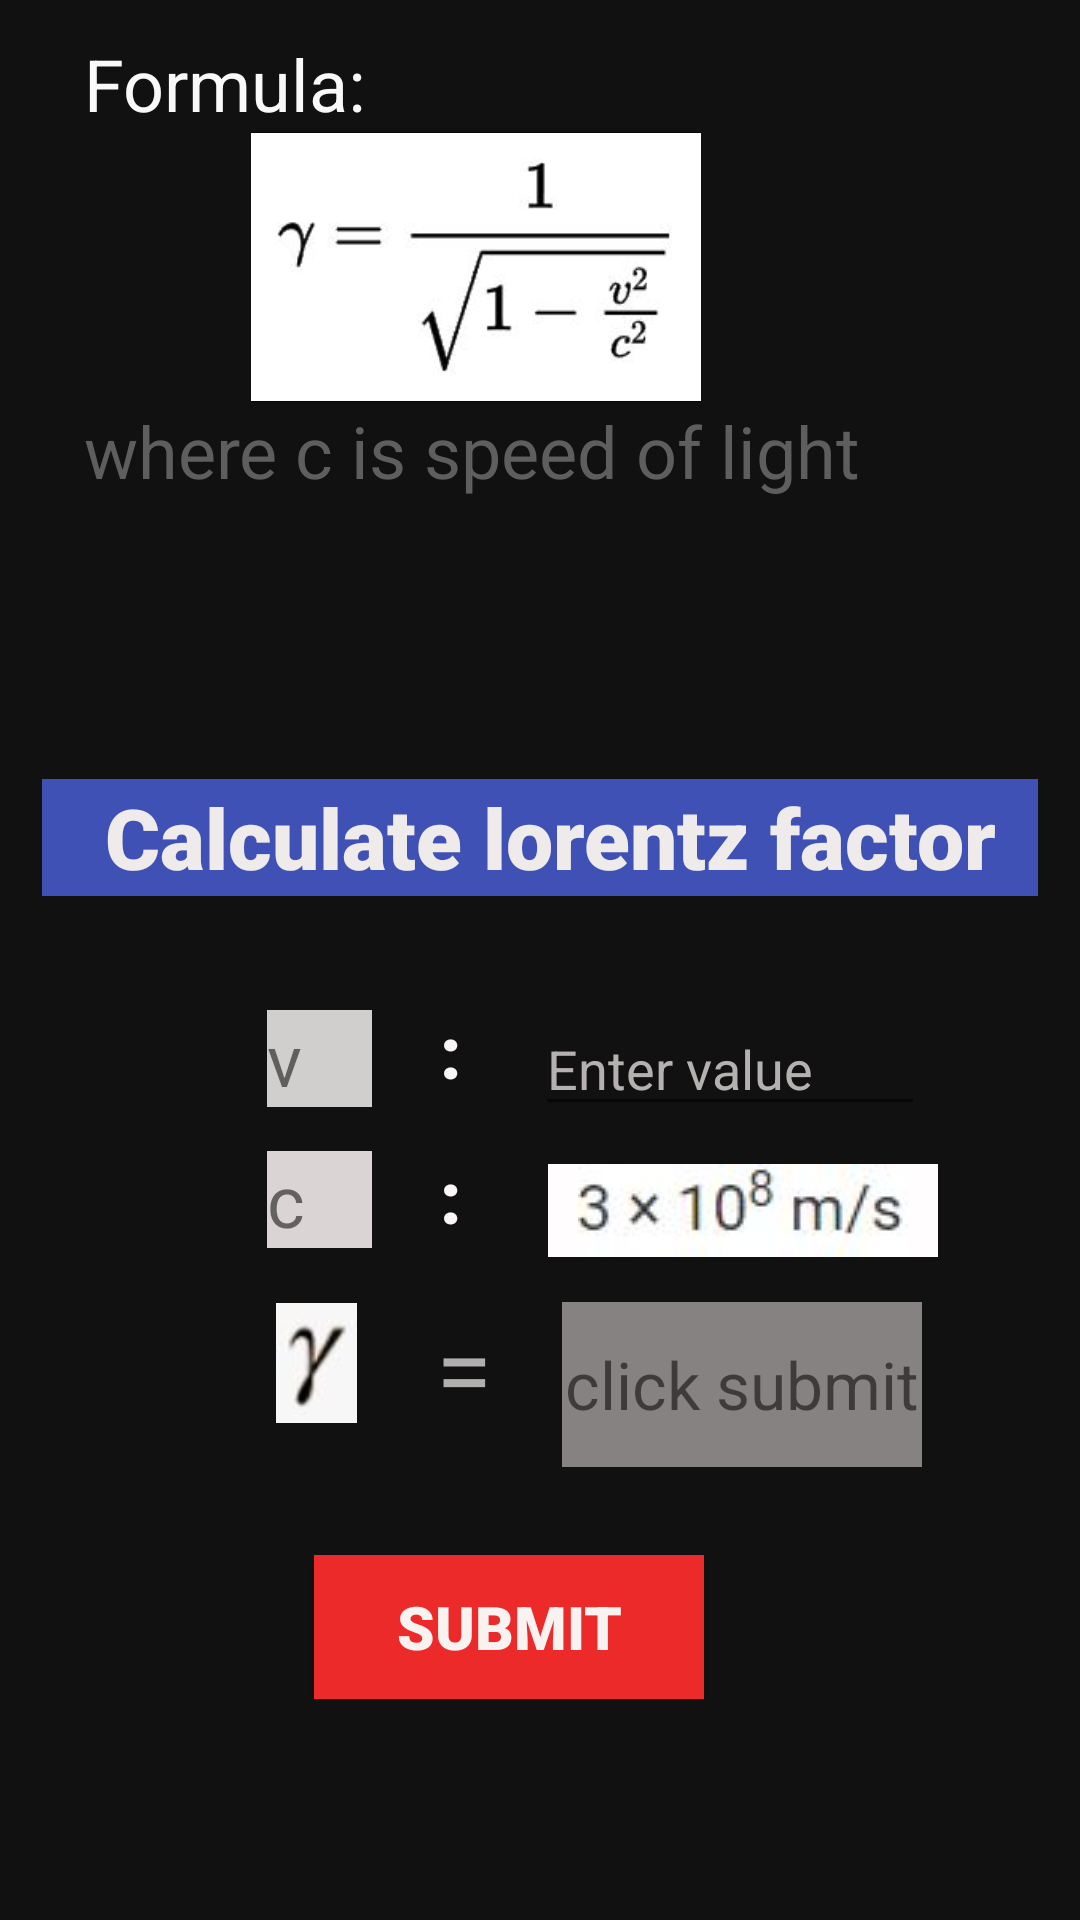

Screen size 1080×1920. Icon name, then its box in pixels as Rect(x1, y1, x2, y2):
lorentz factor: Rect(276, 1303, 357, 1423)
